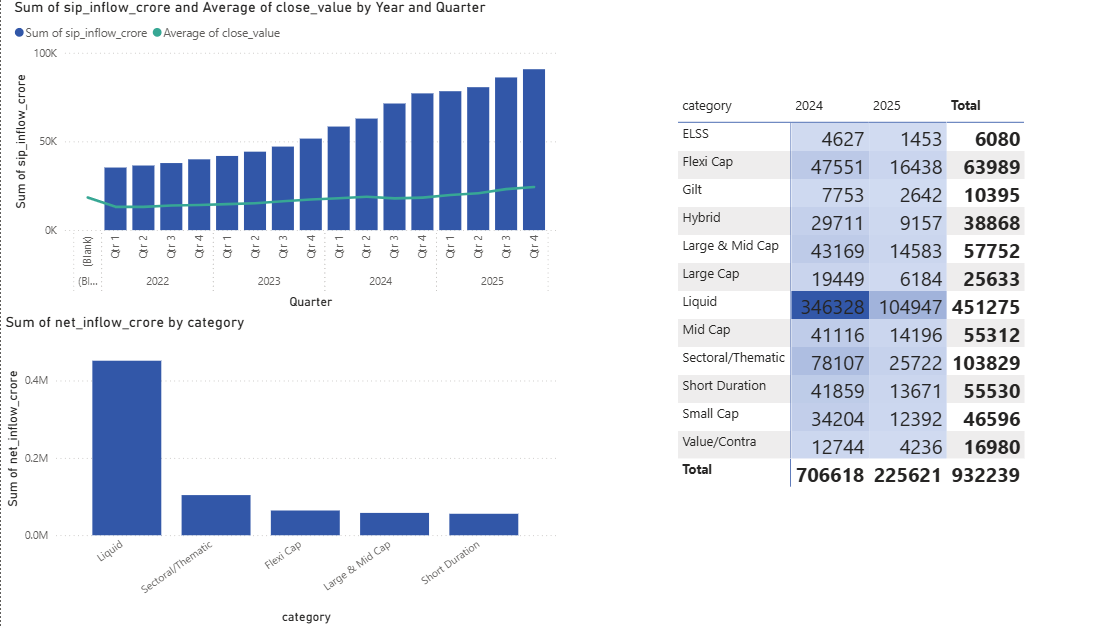

Layout of this report page (visuals, bound fields, positions):
{"tool":"powerbi","page":{"name":"Page 4","canvas":[1280,720],"ordinal":3},"visuals":[{"type":"lineClusteredColumnComboChart","fields":{"Category":["clean_monthly_sip_inflows.month.Variation.Date Hierarchy.Year","clean_monthly_sip_inflows.month.Variation.Date Hierarchy.Quarter","clean_monthly_sip_inflows.month.Variation.Date Hierarchy.Month","clean_monthly_sip_inflows.month.Variation.Date Hierarchy.Day"],"Y":["Sum(clean_monthly_sip_inflows.sip_inflow_crore)"],"Y2":["Avg(clean_benchmark_indices.close_value)"]},"box":[10,0,630,360],"z":0},{"type":"pivotTable","fields":{"Rows":["clean_category_inflows.category"],"Columns":["clean_category_inflows.month.Variation.Date Hierarchy.Year","clean_category_inflows.month.Variation.Date Hierarchy.Quarter","clean_category_inflows.month.Variation.Date Hierarchy.Month","clean_category_inflows.month.Variation.Date Hierarchy.Day"],"Values":["Sum(clean_category_inflows.net_inflow_crore)"]},"box":[768.6,105.7,414.3,470],"z":1},{"type":"clusteredColumnChart","fields":{"Category":["clean_category_inflows.category"],"Y":["Sum(clean_category_inflows.net_inflow_crore)"]},"box":[0,360,640,360],"z":2}]}

Visuals, with their boxes in screenshot pixels (x1, y1, x2, y2), scaled from the page's 1280x720 canvas onto the 1117x628 screenshot:
lineClusteredColumnComboChart - clean_monthly_sip_inflows.month.Variation.Date Hierarchy.Year x clean_monthly_sip_inflows.month.Variation.Date Hierarchy.Quarter: 9, 0, 558, 314
pivotTable - clean_category_inflows.category x clean_category_inflows.month.Variation.Date Hierarchy.Year: 671, 92, 1032, 502
clusteredColumnChart - clean_category_inflows.category x Sum(clean_category_inflows.net_inflow_crore): 0, 314, 558, 627
